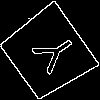Y: (23, 27, 81, 82)
